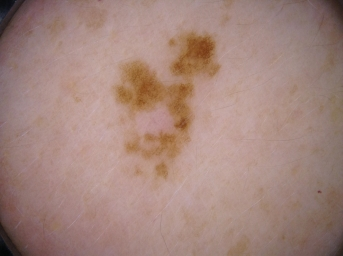melanoma: (117, 65, 194, 179), (174, 35, 220, 76)
